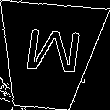M_S: (16, 29, 80, 84)
